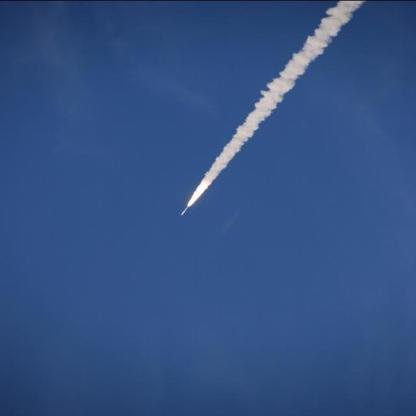MIL_TBM: (179, 206, 190, 216)
